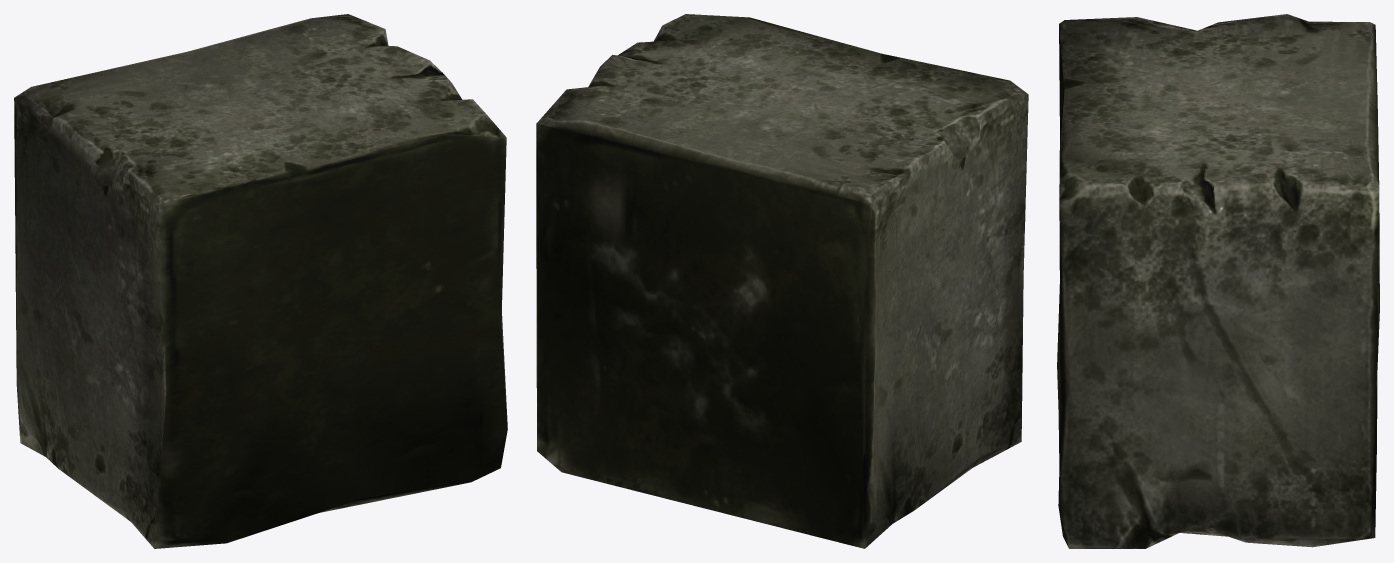
File: TI_Obelisk_Part_01.fbx
3 views of the same model, side by side, from view 1: azimuth 30°, elevation 25°; view 2: azimuth 150°, elevation 25°; view 3: azimuth 270°, elevation 25° (orthographic). The views are drawn at different scales.
Visible parts, largest first — view 1: TI_Obelisk_Part_01; view 2: TI_Obelisk_Part_01; view 3: TI_Obelisk_Part_01.
Part boxes in pixels (x1,y1,x2,y2): TI_Obelisk_Part_01: (14,14,507,548); TI_Obelisk_Part_01: (536,14,1028,548); TI_Obelisk_Part_01: (1057,14,1379,548).
Bounding box in the file's own units: 2.09 × 2.03 × 1.59.
